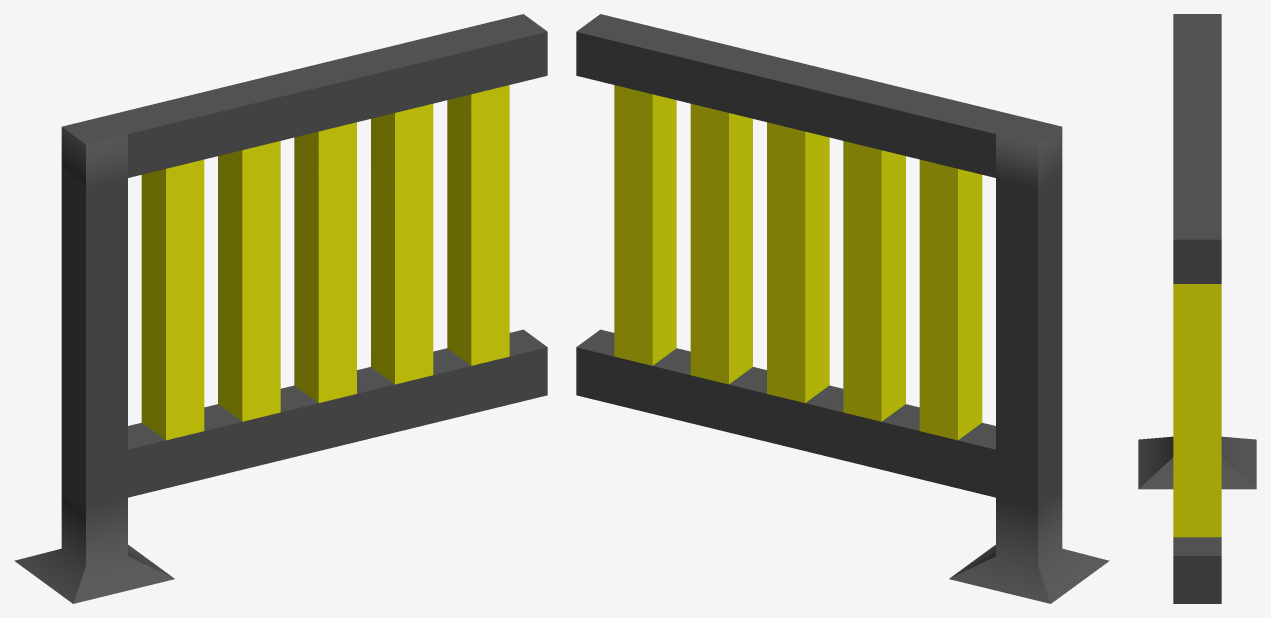
File: fence.FBX
3 renders of one model, left to right at view 1: azimuth 30°, elevation 25°; view 2: azimuth 150°, elevation 25°; view 3: azimuth 270°, elevation 25°, orthographic.
Parts seen in each view (by area): view 1: fences; view 2: fences; view 3: fences.
Boxes of the visible parts, box(x1,y1,x2,y2) form: fences: box(14, 14, 547, 603); fences: box(576, 14, 1109, 603); fences: box(1138, 14, 1256, 603).
Size of the model in its own units: 46.13 by 39.37 by 9.57.
